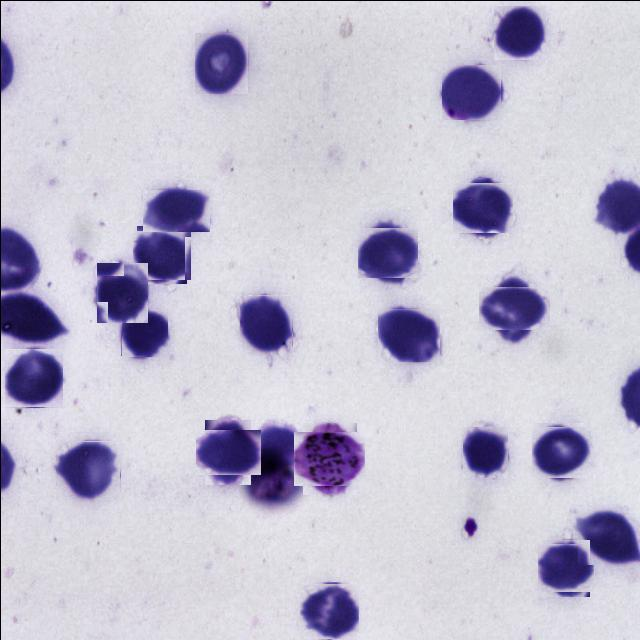gametocyte: (298, 426, 360, 489)
red blood cell: (55, 440, 120, 501), (377, 307, 440, 361), (4, 348, 62, 406), (441, 64, 501, 120), (194, 31, 248, 93), (577, 510, 639, 564), (484, 279, 542, 336), (299, 582, 356, 639), (239, 294, 292, 354), (96, 261, 148, 322), (358, 224, 414, 280), (532, 424, 588, 479), (454, 180, 510, 235), (199, 424, 255, 479), (134, 227, 188, 281), (142, 189, 209, 231), (493, 5, 545, 59), (539, 541, 591, 594), (462, 425, 508, 477), (120, 310, 166, 356)
